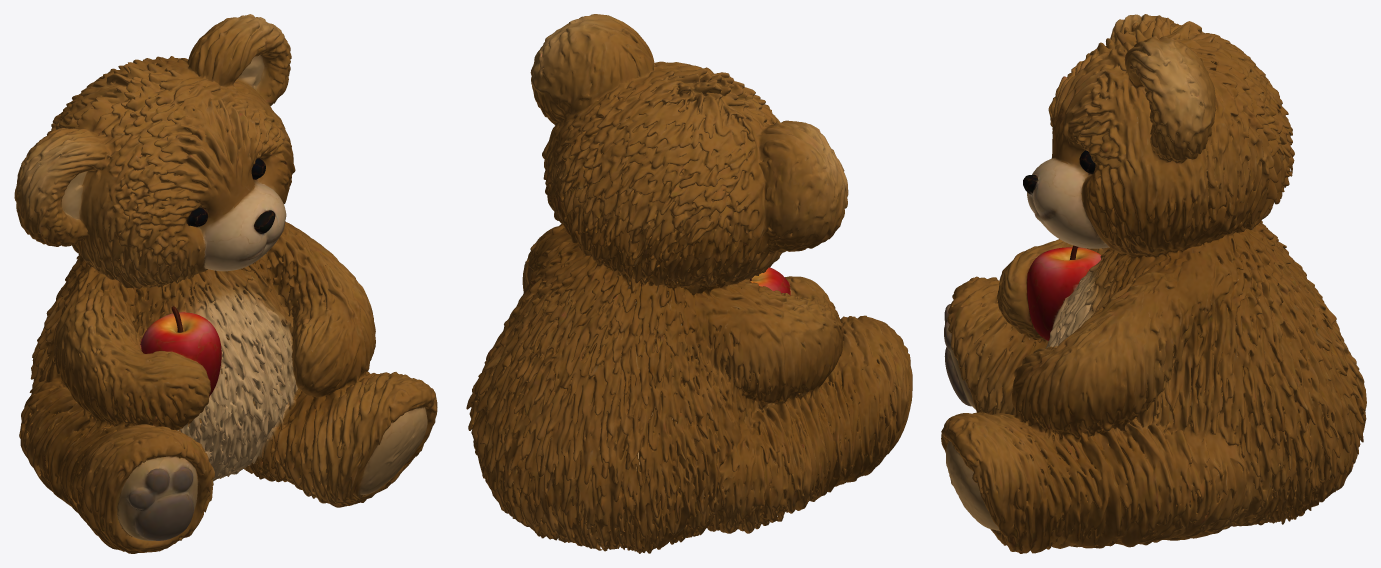
Rendered from generation_teddy_2.glb.
3 views of the same model, side by side, from view 1: azimuth 30°, elevation 25°; view 2: azimuth 150°, elevation 25°; view 3: azimuth 270°, elevation 25° (orthographic). The views are drawn at different scales.
Parts seen in each view (by area): view 1: geometry_0; view 2: geometry_0; view 3: geometry_0.
Boxes of the visible parts, left/top/right/bottom form: geometry_0: left=14, top=14, right=437, bottom=553; geometry_0: left=466, top=14, right=912, bottom=553; geometry_0: left=941, top=14, right=1366, bottom=553.
Size of the model in its own units: 0.807 by 0.9969 by 0.801.
Materials: 1 (1 with a texture image).
